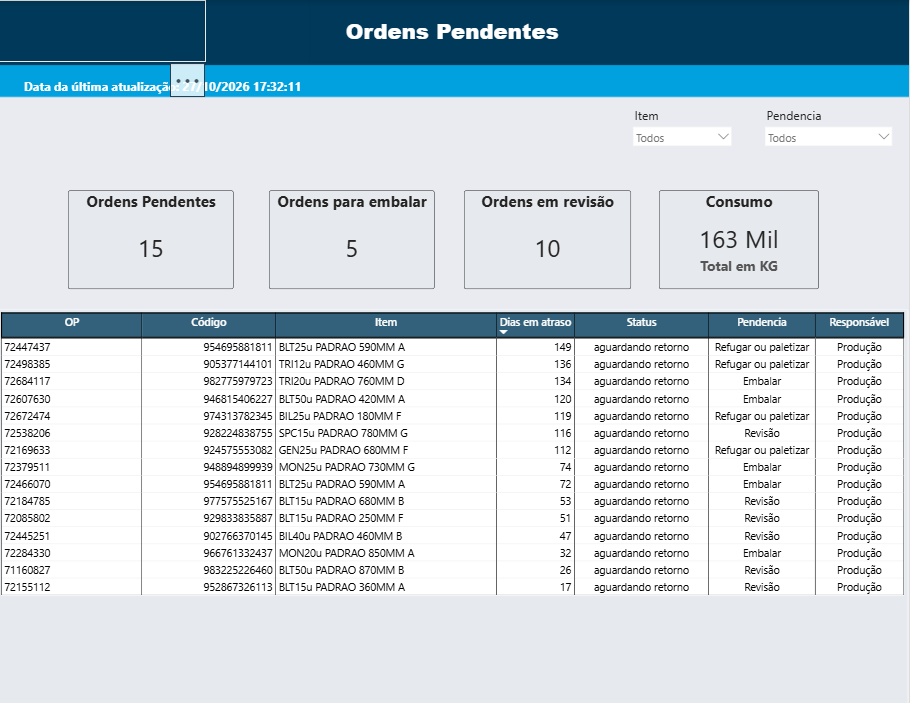

Layout of this report page (visuals, bound fields, positions):
{"tool":"powerbi","page":{"name":"Ordens Pendentes","canvas":[1600,1400],"ordinal":2},"visuals":[{"type":"tableEx","fields":{"Values":["Lista de pendencias.OP","Lista de pendencias.Código","Lista de pendencias.Item","Lista de pendencias.Dias em atraso","Lista de pendencias.Status","Lista de pendencias.Pendencia","Lista de pendencias.Responsável"]},"box":[0,542.5,1600,857.5],"z":0},{"type":"card","title":"Ordens Pendentes","fields":{"Values":["CountNonNull(Lista de pendencias.OP)"]},"box":[125,335,290,172.5],"z":1000},{"type":"card","title":"Ordens para embalar","fields":{"Values":["CountNonNull(Lista de pendencias.OP)"]},"box":[477.5,335,290,172.5],"z":2000},{"type":"card","title":"Ordens em revisão ","fields":{"Values":["CountNonNull(Lista de pendencias.OP)"]},"box":[820,335,292.5,172.5],"z":3000},{"type":"card","title":"Consumo","fields":{"Values":["Sum(kg total pendente.QTD (KG))"]},"box":[1162.5,335,280,172.5],"z":4000},{"type":"textbox","box":[550,0,500,107.5],"z":5000},{"type":"slicer","fields":{"Values":["Lista de pendencias.Item"]},"box":[1105,182.5,197.5,100],"z":6000},{"type":"slicer","fields":{"Values":["Lista de pendencias.Pendencia"]},"box":[1335,182.5,247.5,100],"z":7000},{"type":"cardVisual","title":"Data da última atualização","fields":{"Data":["Medidas.Data Ultima Atualizacao Texto"]},"box":[0,122.5,582.5,43],"z":8000},{"type":"shape","box":[0,0,366.7,107.8],"z":9000}]}

Visuals, with their boxes on the page's 1600x1400 design canvas (x1, y1, x2, y2). These are canvas units, not pixel positions in the 910x703 screenshot, which may show the page scaled, cropped or inside an application window:
tableEx - Lista de pendencias.OP x Lista de pendencias.Código: (x1=0, y1=542, x2=1600, y2=1400)
"Ordens Pendentes" card: (x1=125, y1=335, x2=415, y2=508)
"Ordens para embalar" card: (x1=478, y1=335, x2=768, y2=508)
"Ordens em revisão " card: (x1=820, y1=335, x2=1112, y2=508)
"Consumo" card: (x1=1162, y1=335, x2=1442, y2=508)
textbox: (x1=550, y1=0, x2=1050, y2=108)
slicer - Lista de pendencias.Item: (x1=1105, y1=182, x2=1302, y2=282)
slicer - Lista de pendencias.Pendencia: (x1=1335, y1=182, x2=1582, y2=282)
"Data da última atualização" cardVisual: (x1=0, y1=122, x2=582, y2=166)
shape: (x1=0, y1=0, x2=367, y2=108)
